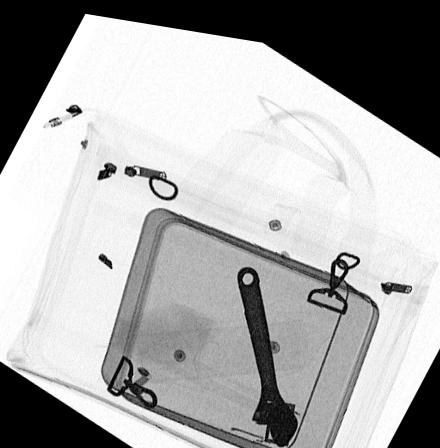Wrench: (233, 255, 299, 440)
